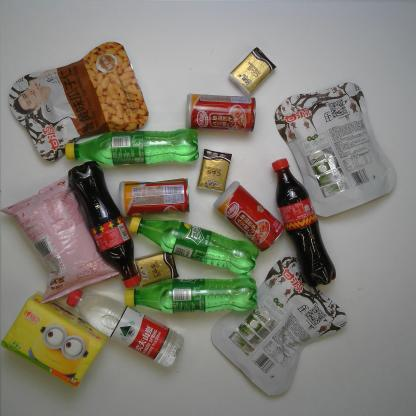Canned Food: (211, 181, 287, 254), (116, 177, 191, 217), (184, 93, 258, 133)
Dried Fruit: (210, 255, 349, 397), (7, 40, 150, 163), (273, 80, 398, 220)
Drink: (67, 161, 142, 288), (66, 288, 183, 368), (271, 157, 337, 288), (125, 215, 260, 277), (63, 127, 200, 168), (124, 276, 259, 314)
Puffed Food: (0, 174, 121, 304)
Tissue: (0, 292, 110, 389), (227, 44, 277, 96), (130, 252, 179, 287), (196, 148, 232, 193)
